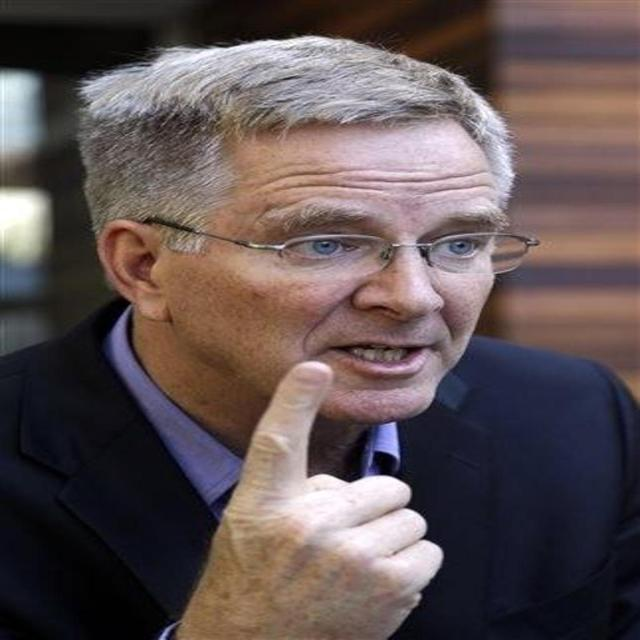Face: (189, 130, 530, 444)
